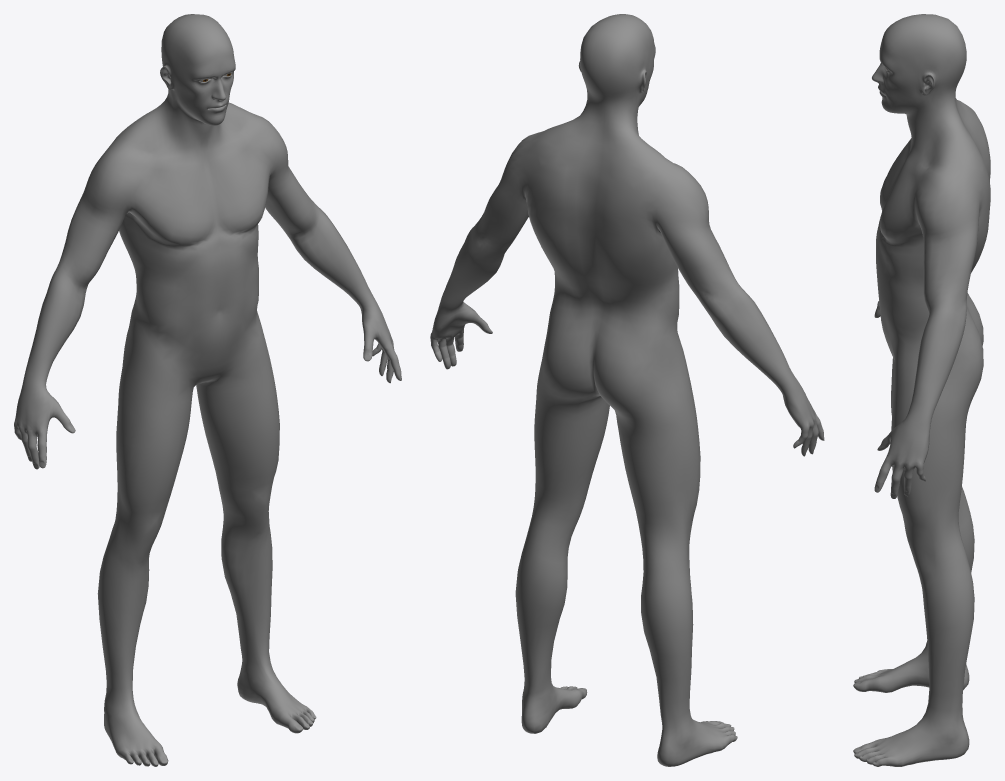
3 views of the same model, side by side, from view 1: azimuth 30°, elevation 25°; view 2: azimuth 150°, elevation 25°; view 3: azimuth 270°, elevation 25° (orthographic).
Visible parts, largest first — view 1: male_genericMesh; view 2: male_genericMesh; view 3: male_genericMesh.
Boxes of the visible parts, <box> form: male_genericMesh: <box>14,14,401,766</box>; male_genericMesh: <box>430,14,824,766</box>; male_genericMesh: <box>853,14,990,766</box>.
Bounding box in the file's own units: 10.23 × 18.59 × 3.28.
Materials: 2 (1 with a texture image).
